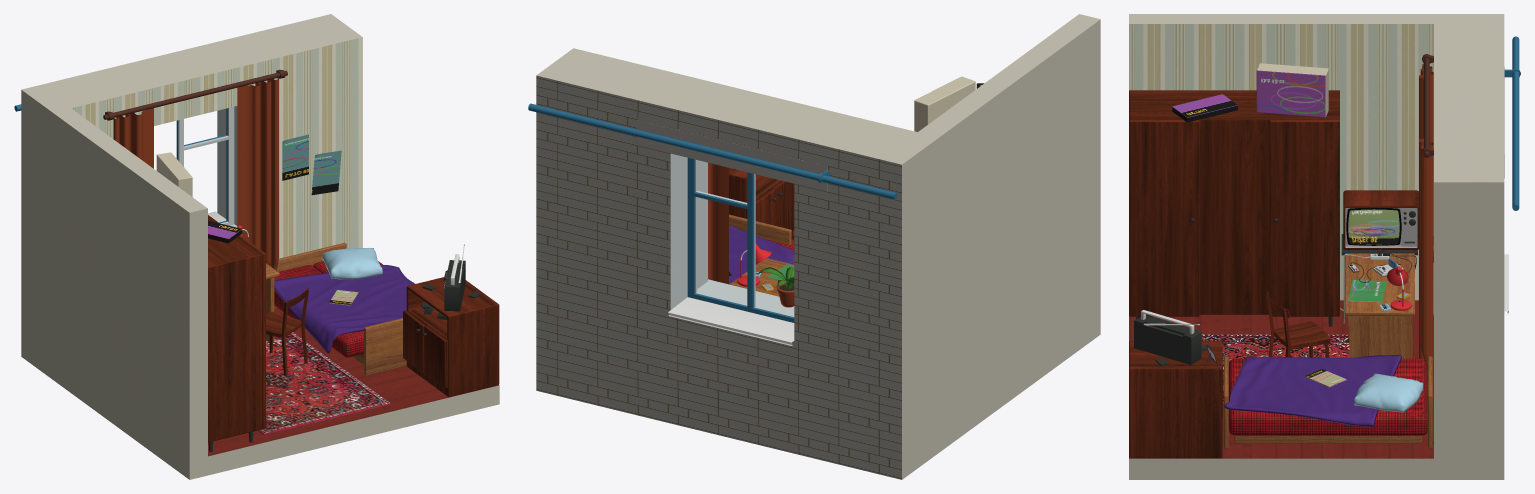
File: room90.glb
The picture shows the model from 3 angles, left to right: view 1: azimuth 30°, elevation 25°; view 2: azimuth 150°, elevation 25°; view 3: azimuth 270°, elevation 25°; orthographic projection. The views are drawn at different scales.
Parts seen in each view (by area): view 1: Room_Wall_0, Cube.008_Wood Dark_0, Room_WallPapper_0, Vert_Shtori_0, object 12, Room_Floor_0, Cube.005_Light Wood_0, Plane.006_Posters_0, Cube.003_Red Cloth_0, Cube.046_Boxes_0; view 2: Room_Wall_0, Room_Brick_0, Cube.008_Wood Dark_0, Vert_Shtori_0, Cube.005_Light Wood_0; view 3: Room_Wall_0, Cube.008_Wood Dark_0, Room_WallPapper_0, Cube.005_Light Wood_0, Room_Floor_0, Cube.003_Red Cloth_0, Cube.046_Boxes_0, Vert_Shtori_0, object 12, Plane_TV Scren_0, Cube.035_Velikiy D_0, Cube.027_TMNT_0.
Part boxes in pixels (box(x1,y1,x2,y2)): Room_Wall_0: box(14, 14, 499, 479); Cube.008_Wood Dark_0: box(208, 215, 499, 442); Room_WallPapper_0: box(71, 37, 362, 258); Vert_Shtori_0: box(113, 78, 278, 270); object 12: box(258, 332, 391, 434); Room_Floor_0: box(208, 308, 498, 456); Cube.005_Light Wood_0: box(266, 242, 406, 375); Plane.006_Posters_0: box(282, 134, 341, 195); Cube.003_Red Cloth_0: box(274, 261, 382, 357); Cube.046_Boxes_0: box(208, 220, 242, 243); Room_Wall_0: box(528, 14, 1100, 479); Room_Brick_0: box(536, 75, 901, 479); Cube.008_Wood Dark_0: box(729, 168, 794, 240); Vert_Shtori_0: box(708, 162, 794, 307); Cube.005_Light Wood_0: box(729, 214, 794, 296); Room_Wall_0: box(1129, 14, 1520, 479); Cube.008_Wood Dark_0: box(1129, 90, 1418, 458); Room_WallPapper_0: box(1129, 24, 1433, 300); Cube.005_Light Wood_0: box(1224, 253, 1432, 448); Room_Floor_0: box(1129, 300, 1433, 458); Cube.003_Red Cloth_0: box(1228, 358, 1427, 435); Cube.046_Boxes_0: box(1172, 70, 1325, 122); Vert_Shtori_0: box(1419, 64, 1433, 396); object 12: box(1201, 334, 1349, 404); Plane_TV Scren_0: box(1348, 209, 1399, 244); Cube.035_Velikiy D_0: box(1348, 280, 1386, 301); Cube.027_TMNT_0: box(1304, 369, 1346, 387).
Bounding box in the file's own units: 3.61 × 2.89 × 3.45.
17 materials, 17 textured.
